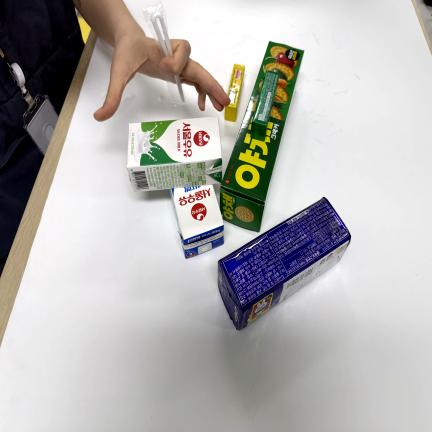cracker_ace: (218, 197, 351, 330)
cracker_vege: (220, 42, 304, 231)
gum_green: (251, 70, 279, 141)
gum_yellow: (225, 64, 245, 121)
milk_blue: (170, 185, 224, 258)
milk_green: (127, 117, 222, 191)
